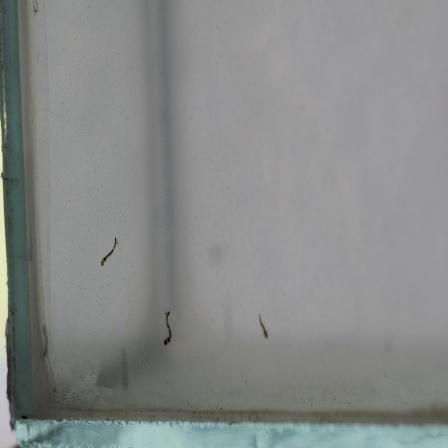Jentik-Nyamuk: (98, 234, 121, 271), (158, 307, 176, 349), (255, 311, 271, 345)
